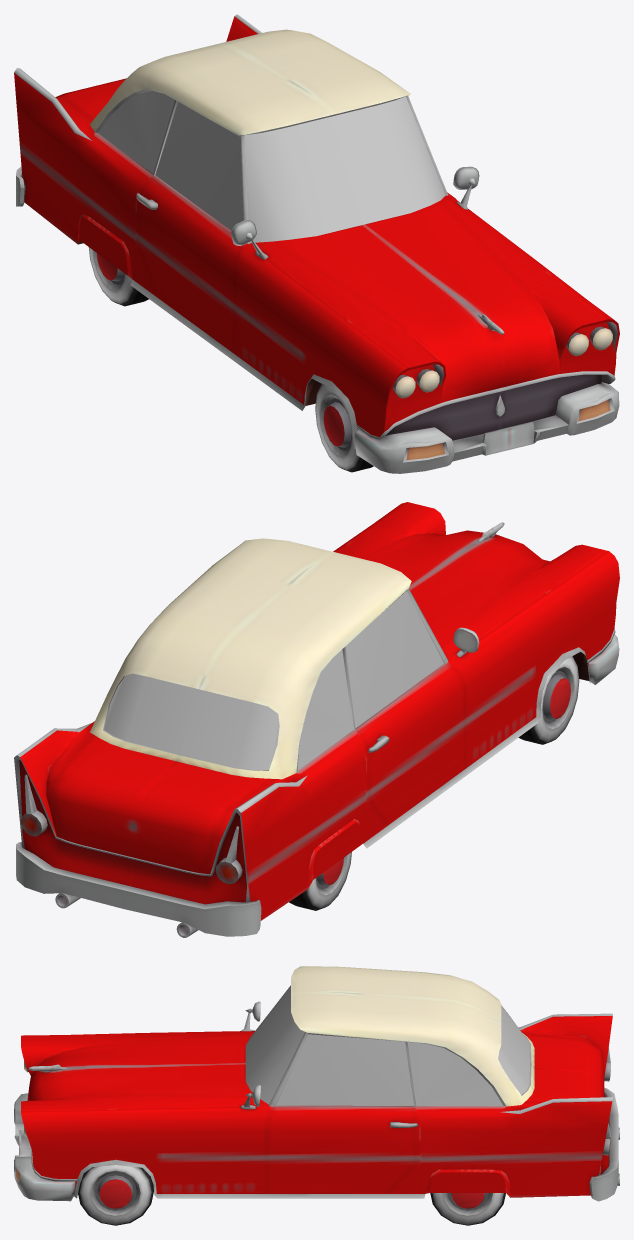
File: car.fbx
3 views of the same model, one above another, from view 1: azimuth 30°, elevation 25°; view 2: azimuth 150°, elevation 25°; view 3: azimuth 270°, elevation 25° (orthographic). The views are drawn at different scales.
Visible parts, largest first — view 1: car2_car2_m_0, car2_microwave_part_glass_m_Inst_0; view 2: car2_car2_m_0, car2_microwave_part_glass_m_Inst_0; view 3: car2_car2_m_0, car2_microwave_part_glass_m_Inst_0.
Part boxes in pixels (bbox=[...]): car2_car2_m_0: bbox=[14, 14, 619, 473]; car2_microwave_part_glass_m_Inst_0: bbox=[98, 90, 445, 242]; car2_car2_m_0: bbox=[14, 502, 619, 937]; car2_microwave_part_glass_m_Inst_0: bbox=[104, 591, 443, 770]; car2_car2_m_0: bbox=[14, 966, 619, 1225]; car2_microwave_part_glass_m_Inst_0: bbox=[245, 985, 529, 1105].
Size of the model in its own units: 466 by 448 by 1272.
Materials: 4 (3 with a texture image).
